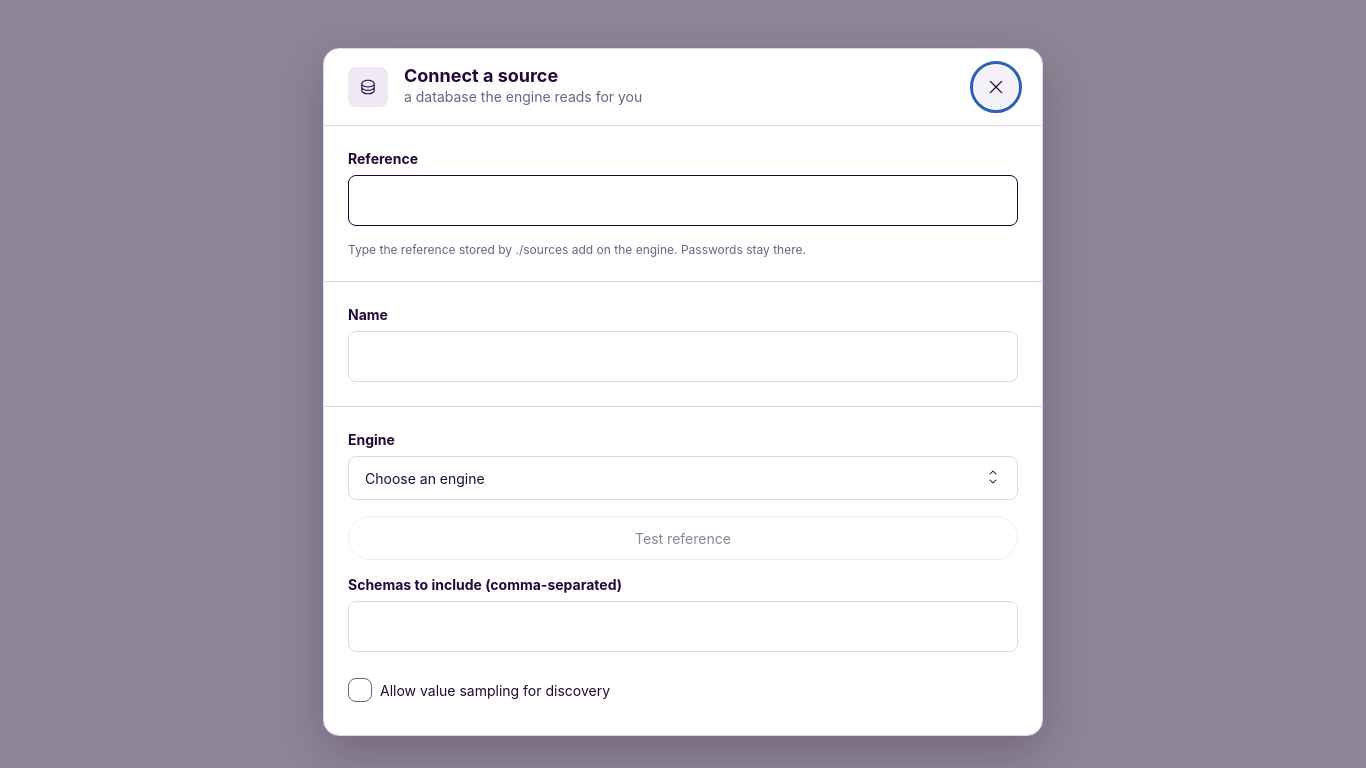
shows reachable only for a successful test of the current reference
The width and height of the screenshot is (1366, 768).
Press ArrowDown in the dropdown labelled "engine", box [348, 456, 1018, 500]
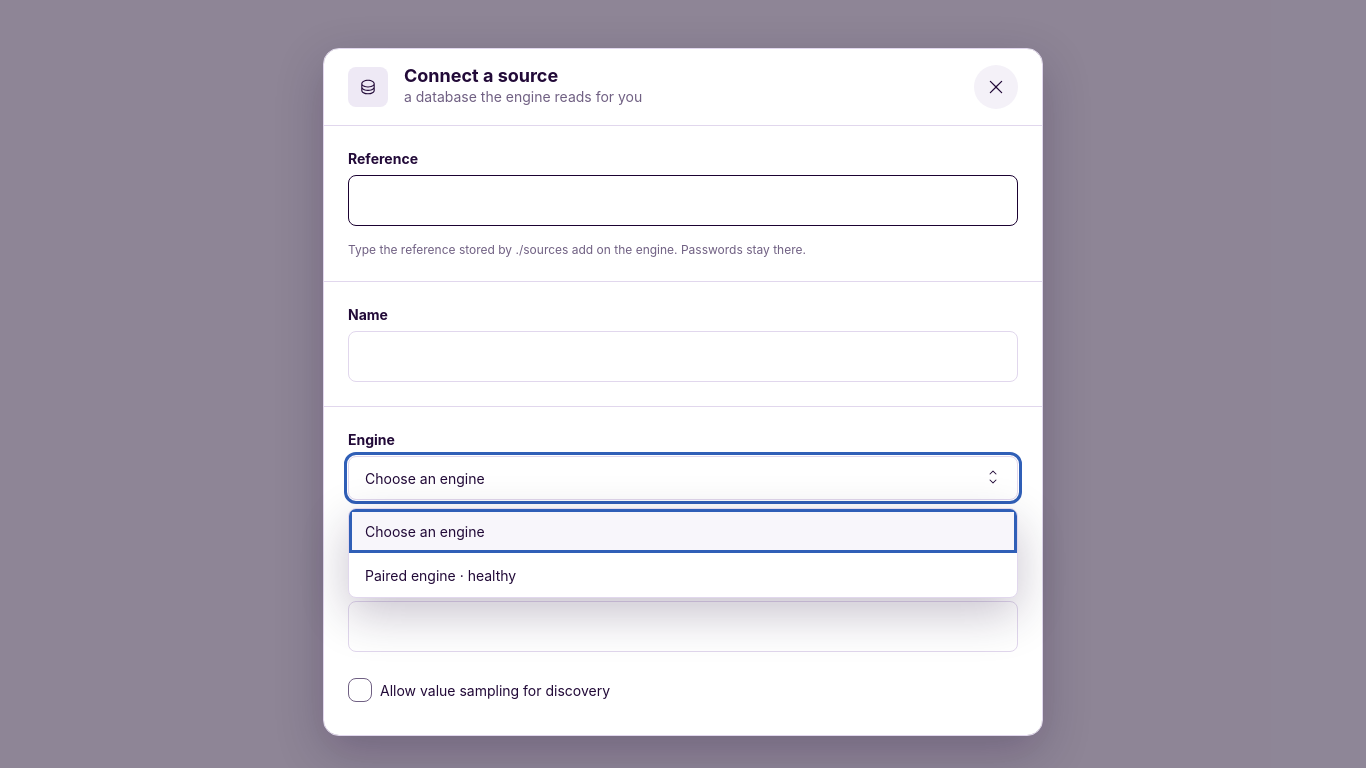
Click the option "Paired engine · healthy" at x=441, y=575, box [365, 566, 516, 584]
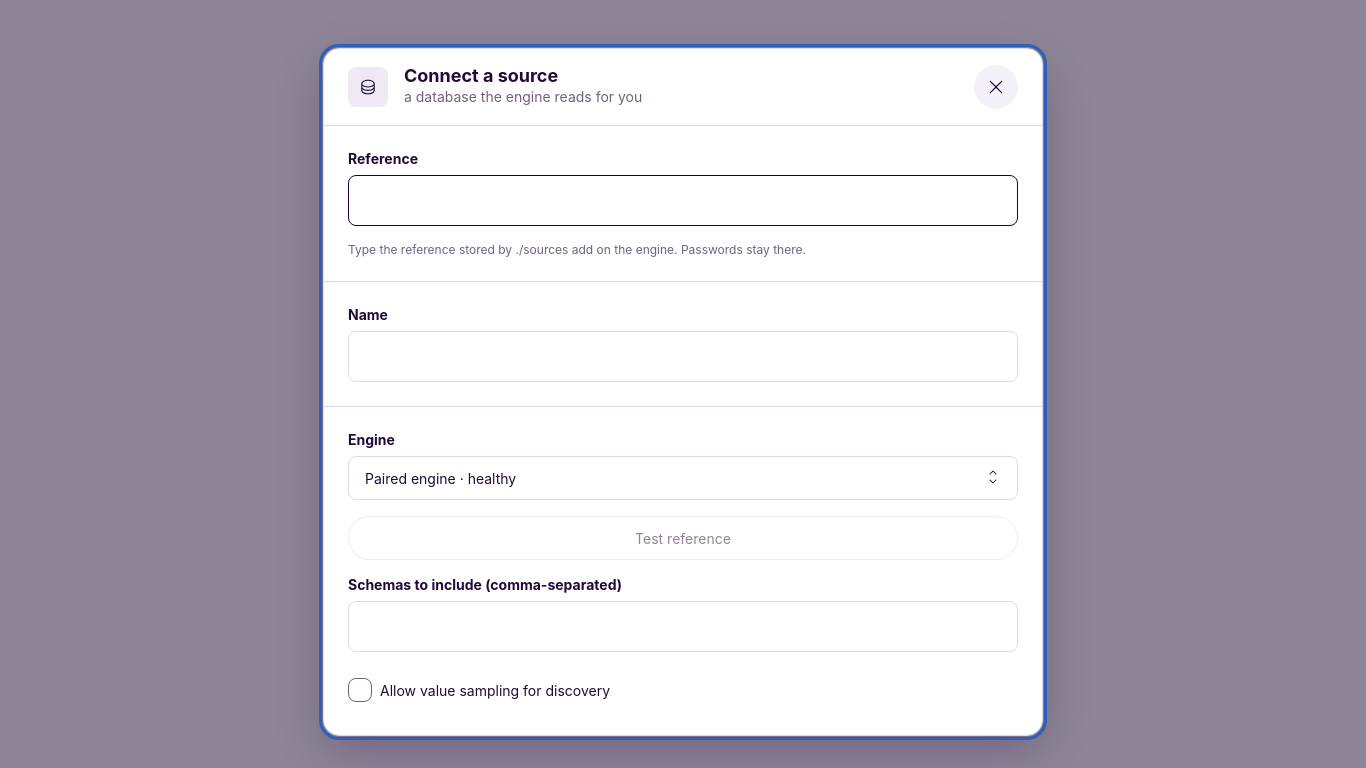
Type "claims" into the field named "Stored reference name" at x=675, y=200, box [349, 176, 1001, 225]
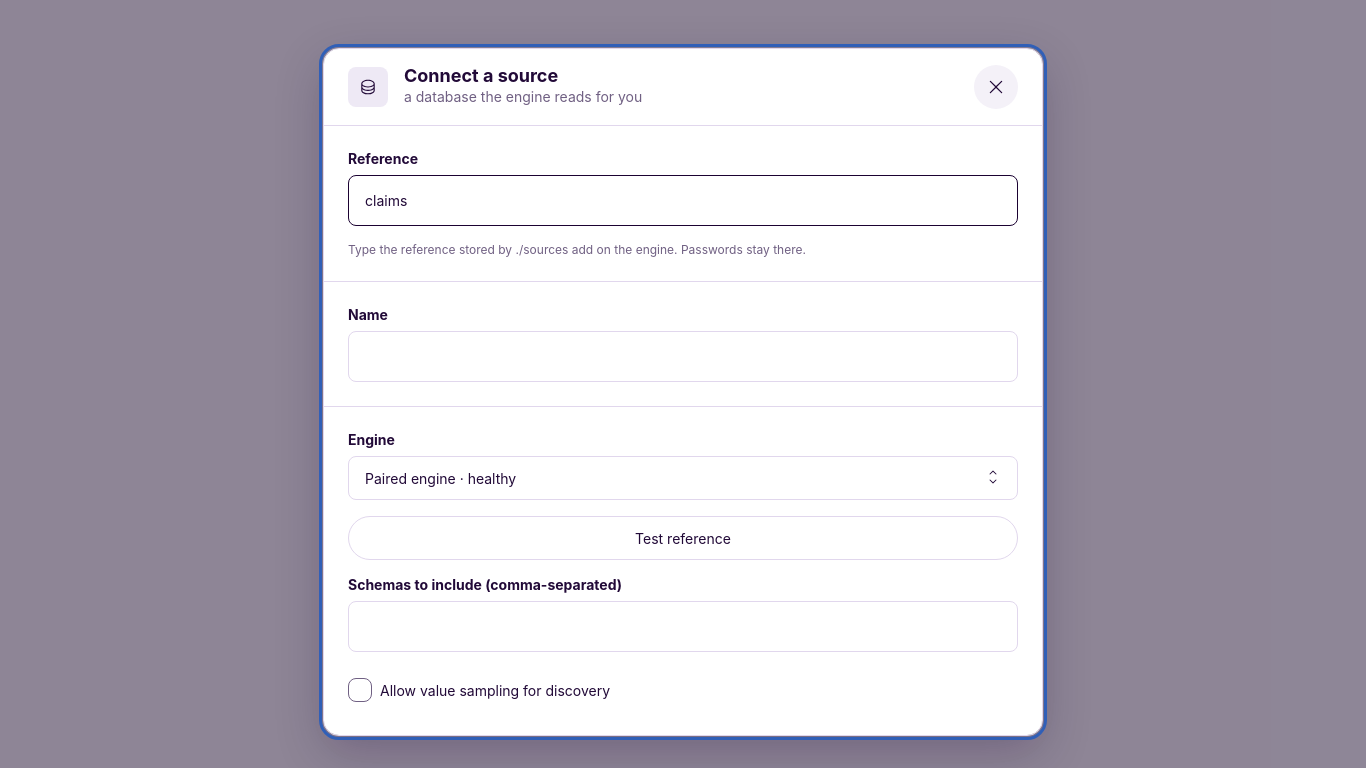
Click the button "Test reference" at x=683, y=538, box [348, 516, 1018, 560]
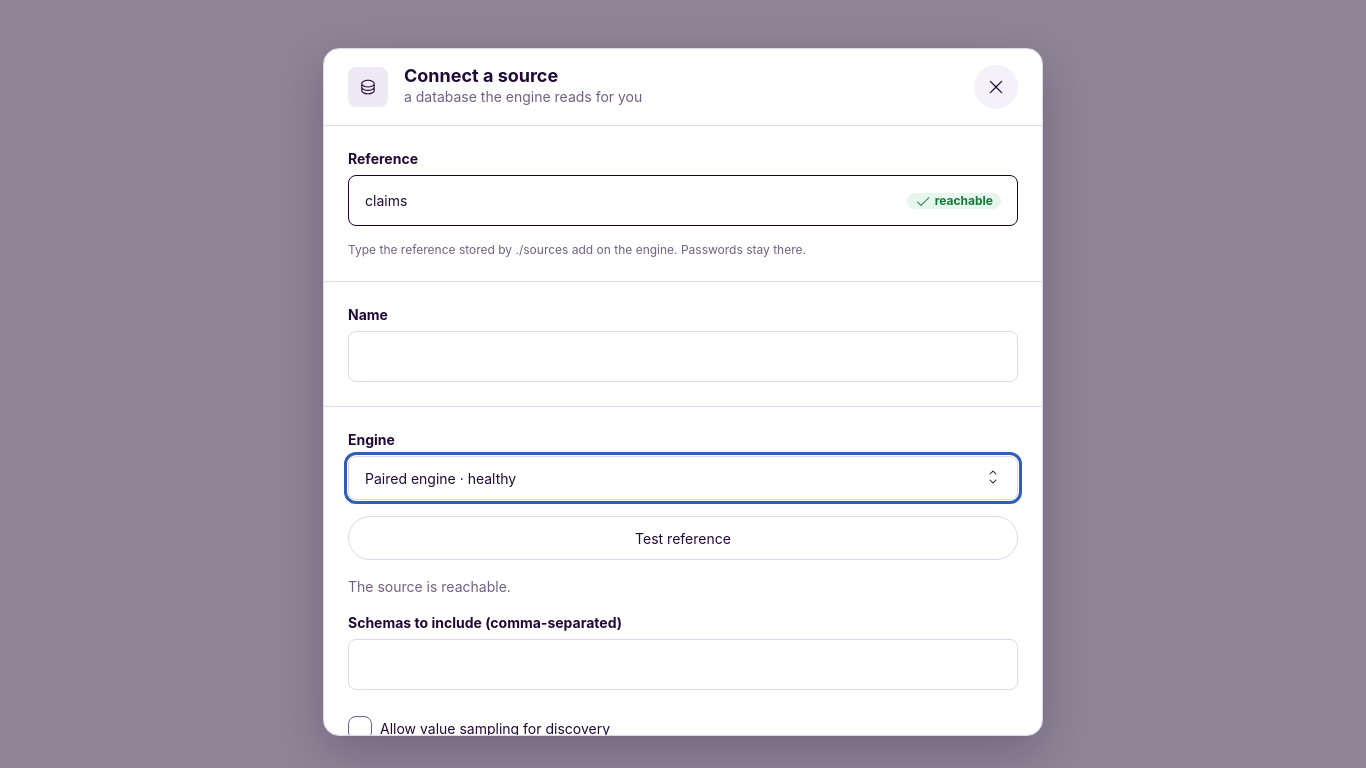
Result: the text "reachable" is shown at [907, 192, 1001, 208]
Replace the text in the field named "Stored reference name" with "another" at x=624, y=200, box [349, 176, 899, 225]
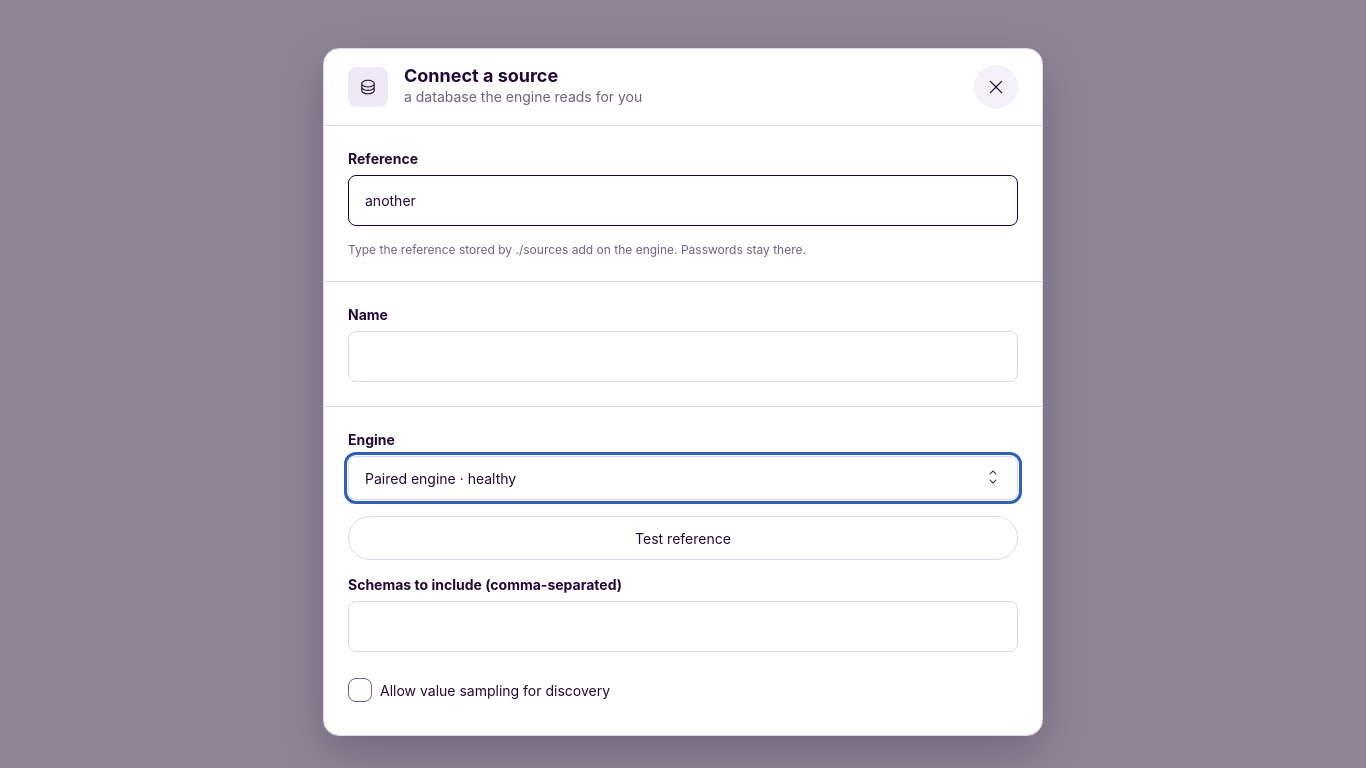
Result: the text "reachable" is gone
